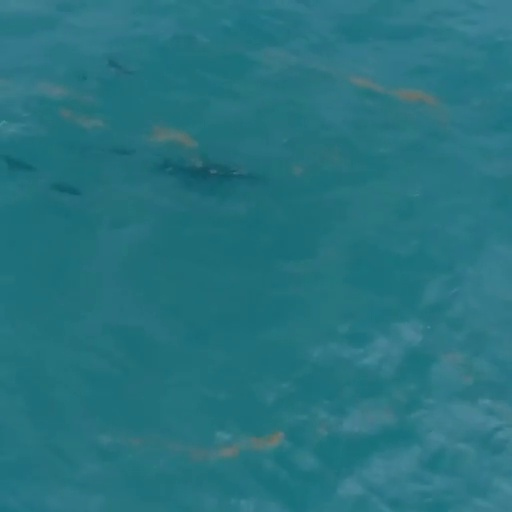shark: (154, 152, 266, 191)
